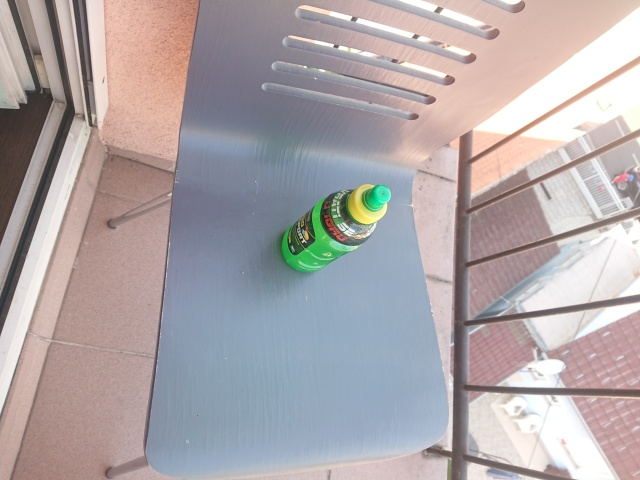Vindi Iso Sport Lemon-Grapefruit 500mL: (278, 181, 394, 276)
